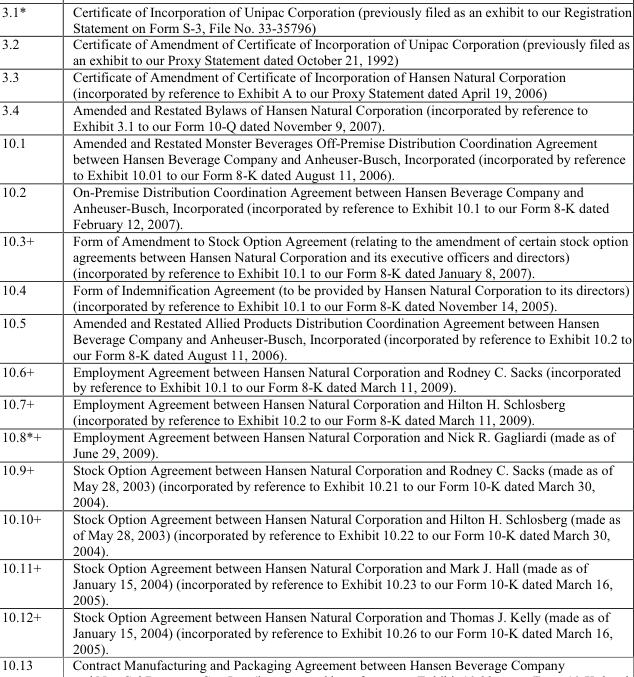table: (0, 1, 630, 673)
table column: (56, 1, 630, 673), (0, 1, 56, 673)
table row: (0, 133, 630, 182), (0, 182, 630, 231), (0, 231, 630, 280), (0, 313, 630, 362), (0, 460, 630, 509), (0, 509, 630, 558), (0, 558, 630, 607), (0, 607, 630, 656), (0, 1, 630, 35), (0, 67, 630, 100), (0, 100, 630, 133), (0, 280, 630, 313), (0, 362, 630, 395), (0, 427, 630, 460), (0, 35, 630, 67), (0, 395, 630, 427), (0, 656, 630, 673)
